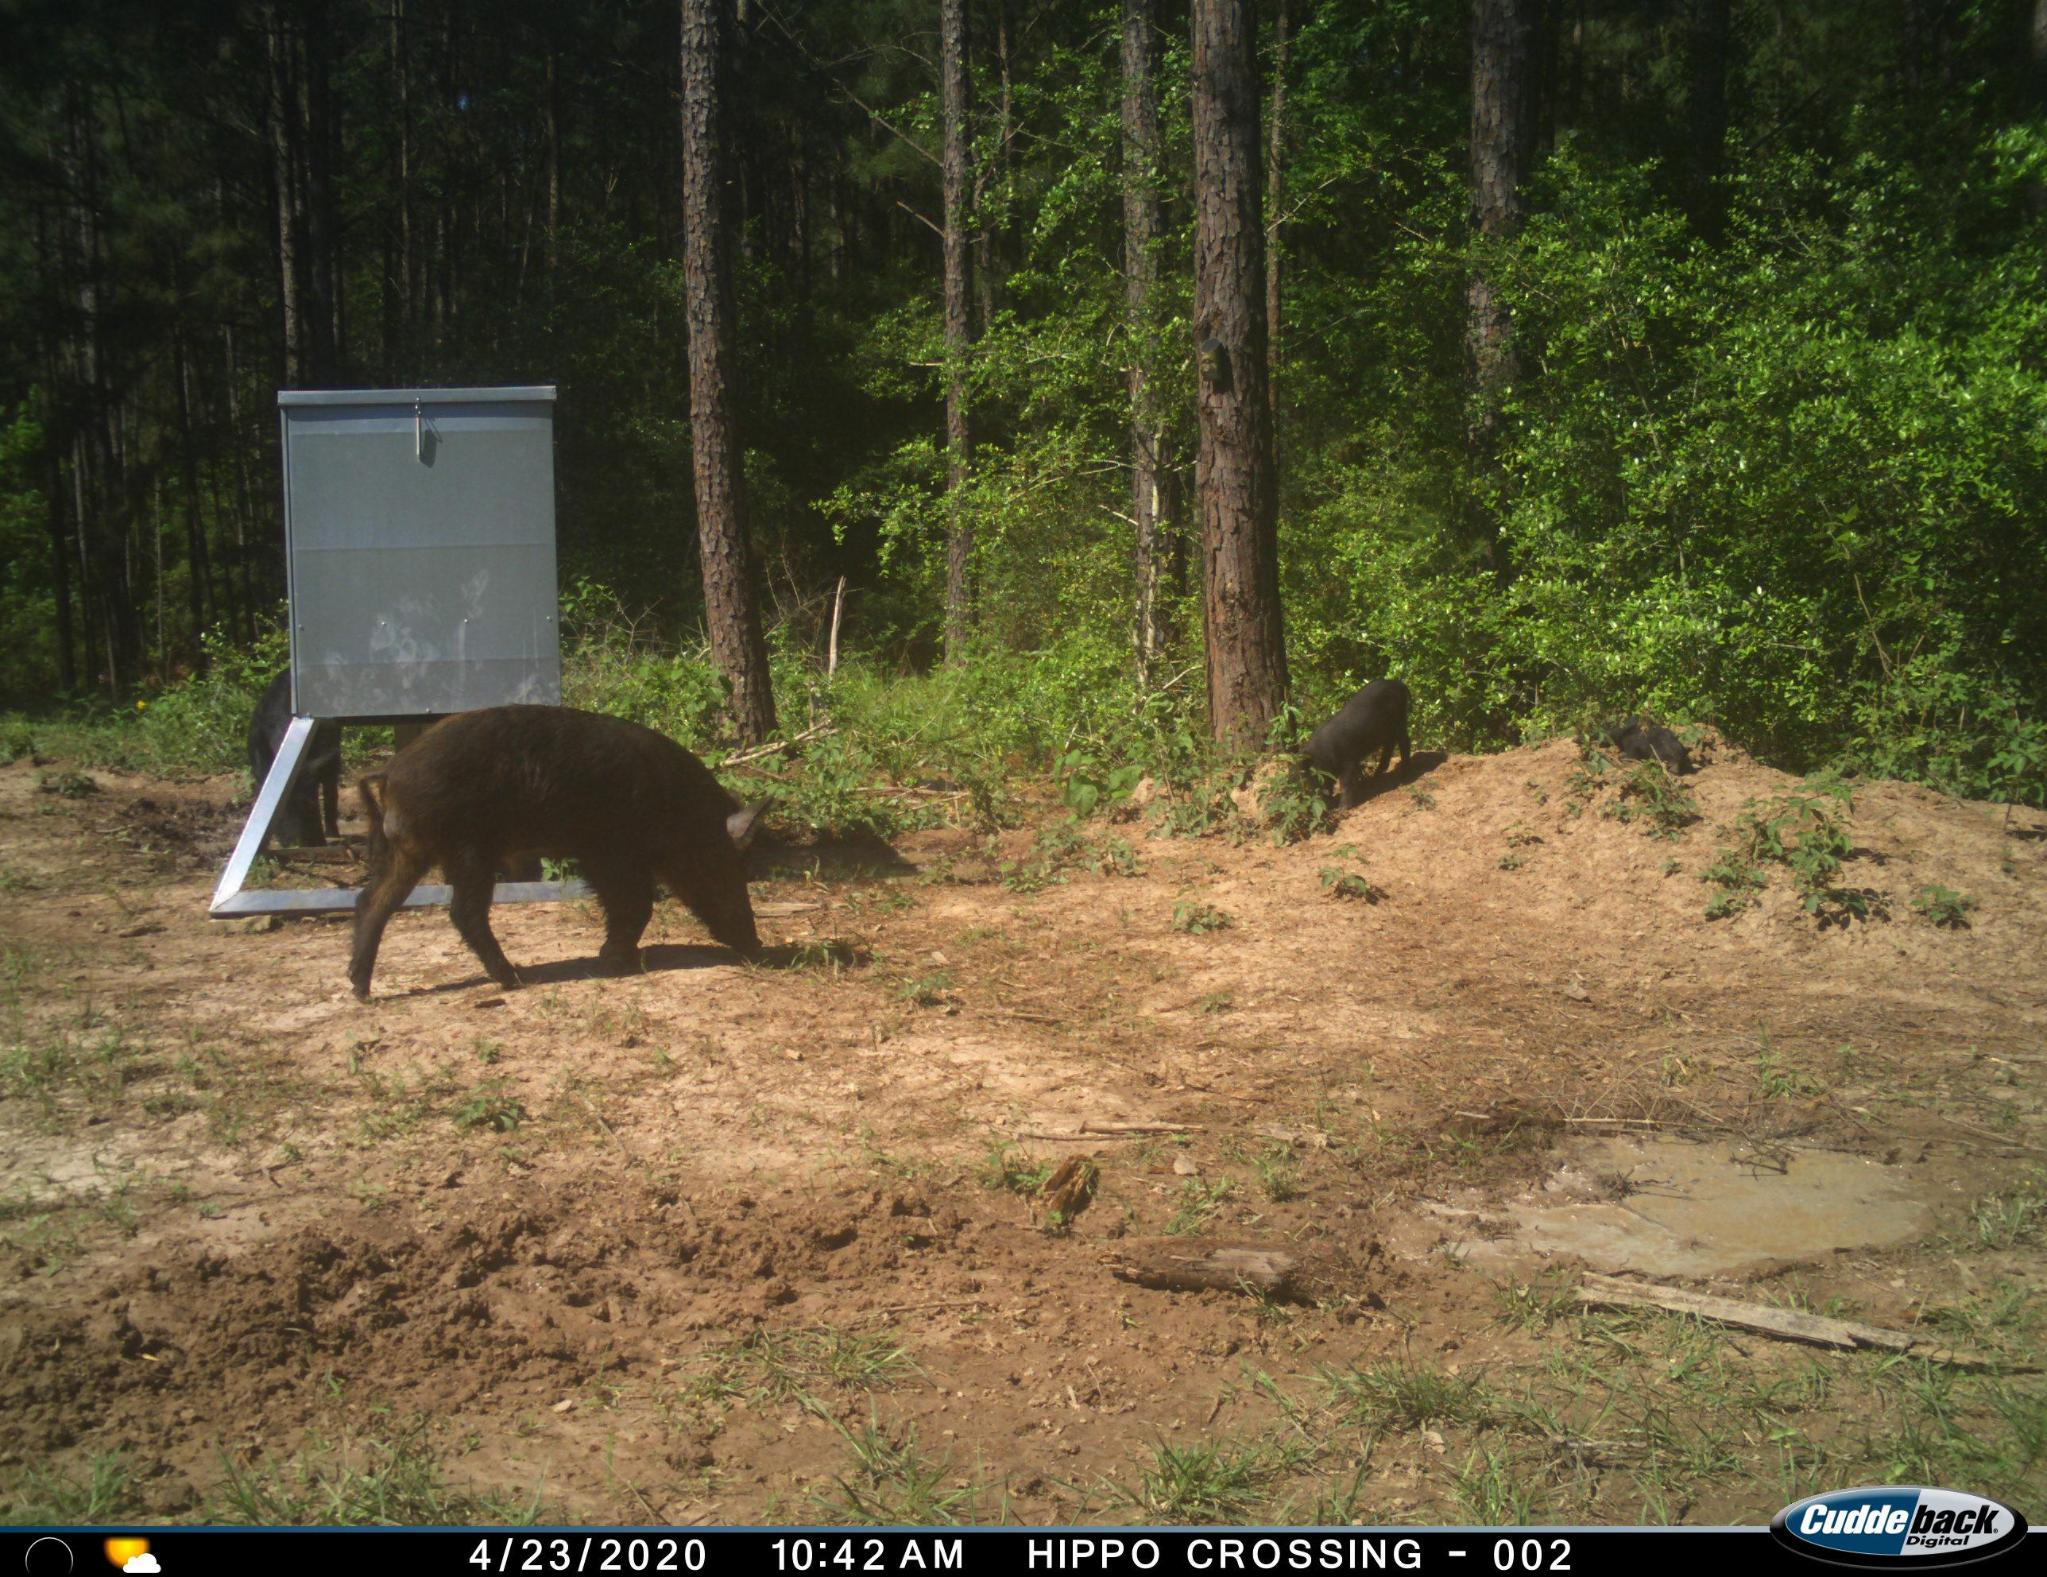Hog: (353, 696, 780, 1001), (1288, 678, 1424, 810)
